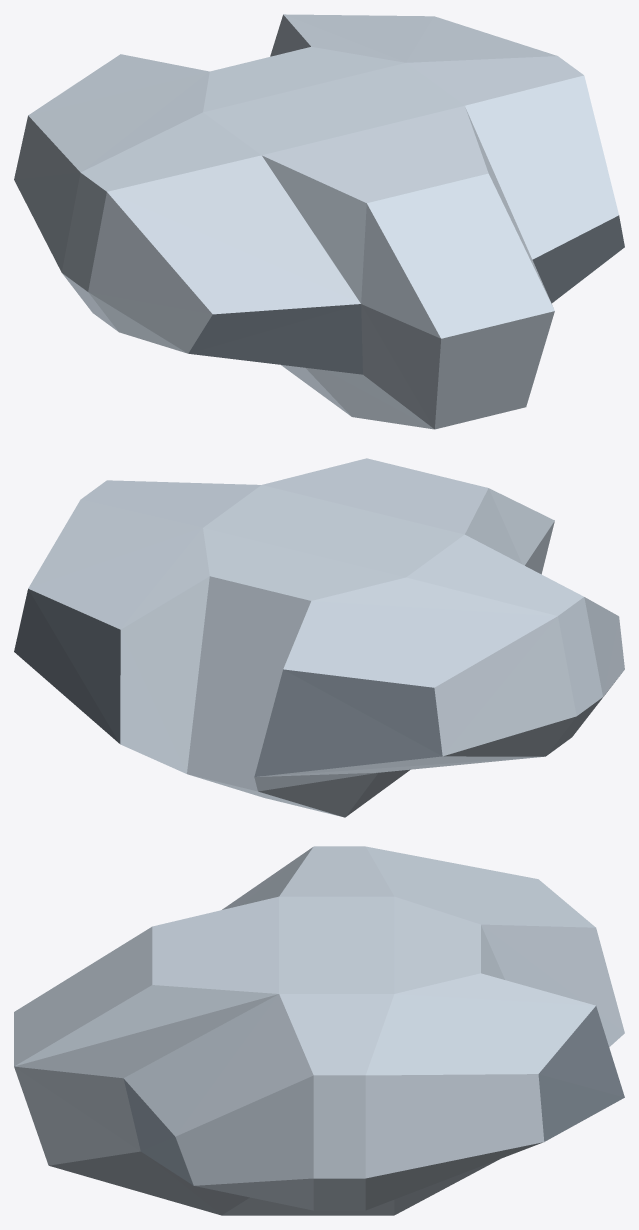
The model's file is leg.FBX.
3 renders of one model, top to bottom at view 1: azimuth 30°, elevation 25°; view 2: azimuth 150°, elevation 25°; view 3: azimuth 270°, elevation 25°, orthographic.
Visible parts, largest first — view 1: VIFS001, VIFS002; view 2: VIFS001, VIFS002; view 3: VIFS001, VIFS002.
Boxes of the visible parts, x1=… form: VIFS001: x1=14, y1=14, x2=618, y2=429; VIFS002: x1=188, y1=215, x2=624, y2=374; VIFS001: x1=28, y1=458, x2=624, y2=817; VIFS002: x1=14, y1=588, x2=442, y2=776; VIFS001: x1=14, y1=846, x2=624, y2=1215; VIFS002: x1=123, y1=1006, x2=624, y2=1185.
Bounding box in the file's own units: 1.81 × 0.8571 × 1.89.
